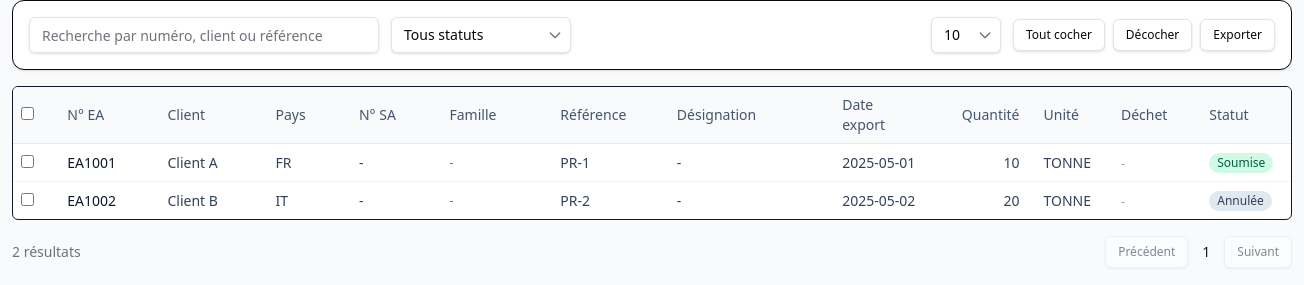
Test: EaTable › renders and filters
expect the text "EA1001" is shown: met, box [55,144,156,182]
expect the text "EA1002" is shown: met, box [55,182,156,219]
In the field with placeholder "Recherche par numéro, client ou référence": (204, 35) [29,17,379,53], type "EA1001"
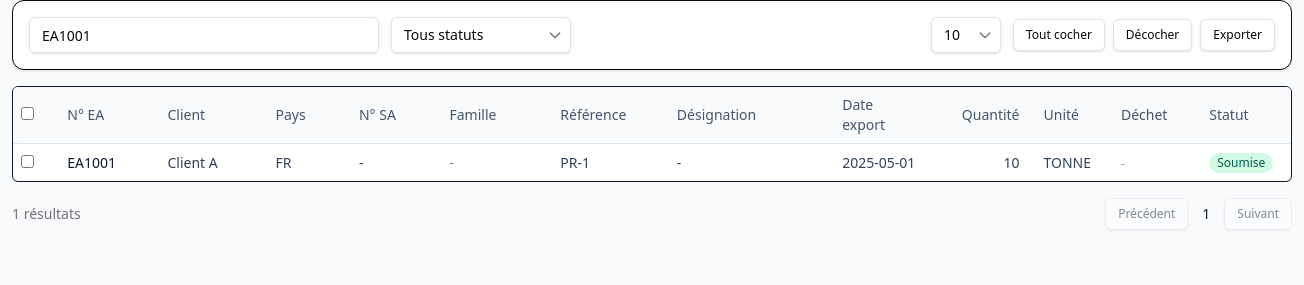
expect the text "EA1001" is shown: met, box [55,144,156,181]
expect the text "EA1002" is gone: met
